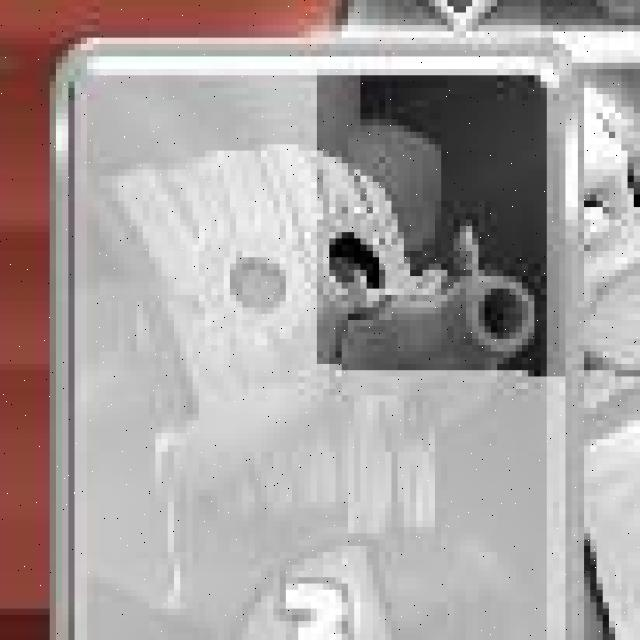Dart_Goblin: (44, 36, 587, 640)
